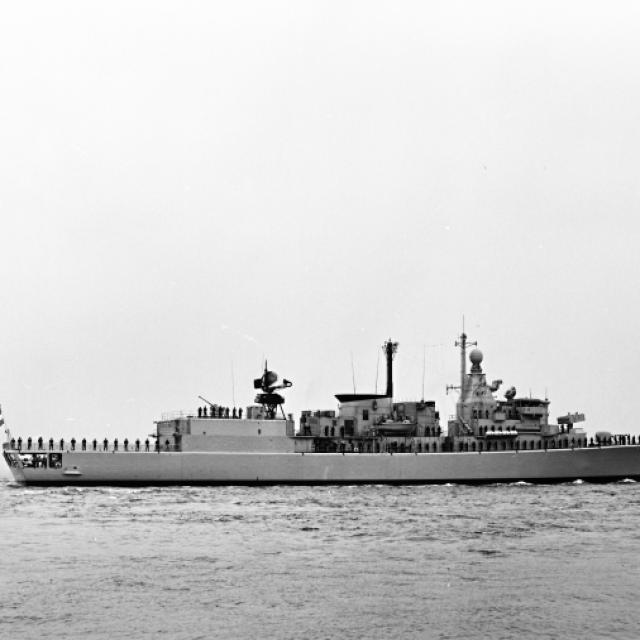Fragata: (1, 305, 640, 495)
